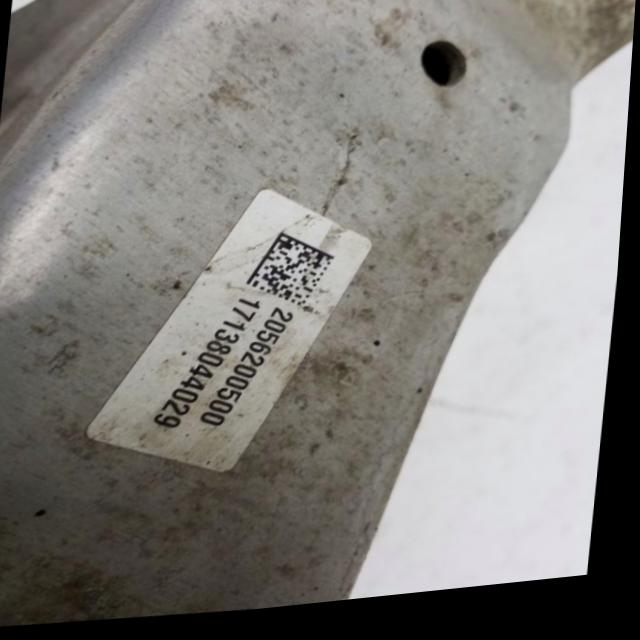datamatrix: (248, 234, 341, 318)
